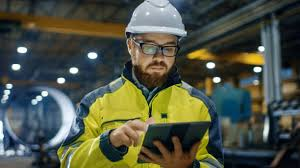casque: (109, 2, 206, 166)
